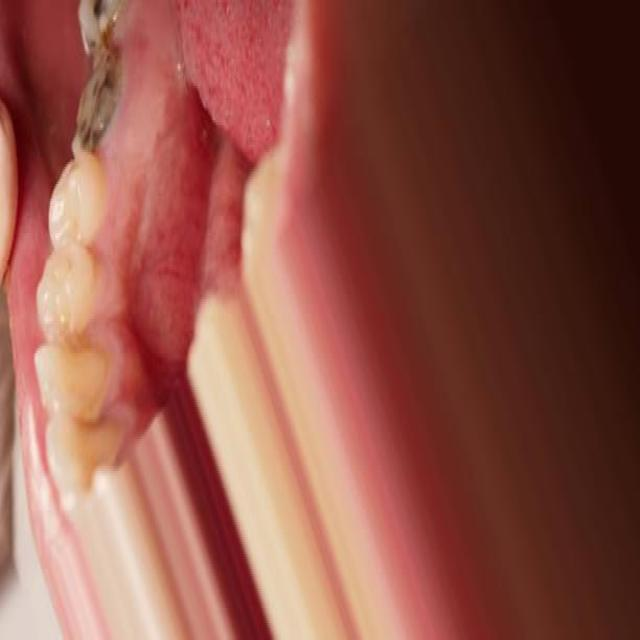caries: (72, 45, 127, 168), (74, 0, 123, 51)
